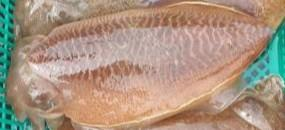Cephalopod: (7, 1, 274, 129)
